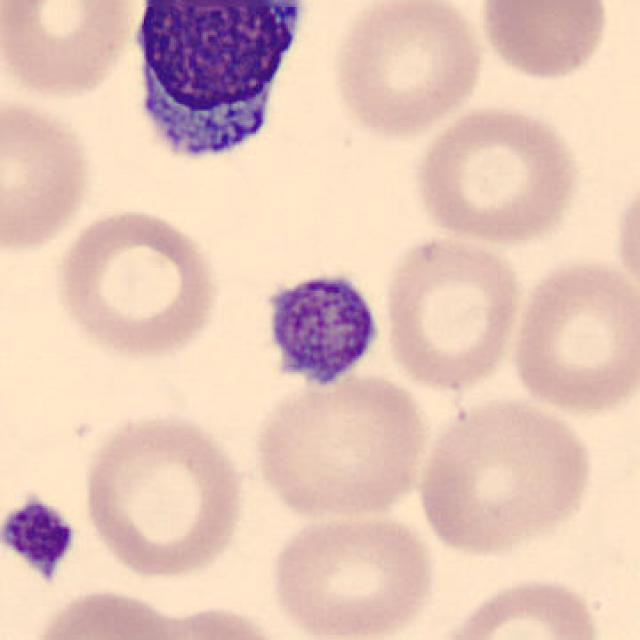Lymphocyte: (118, 0, 318, 180)
Platelets: (254, 266, 386, 397), (0, 494, 80, 587)
RBC: (411, 393, 597, 559), (78, 407, 251, 582), (249, 363, 432, 522), (52, 203, 222, 361), (409, 100, 585, 247), (379, 231, 526, 395), (267, 504, 437, 640), (327, 0, 487, 139), (507, 255, 638, 418), (0, 90, 96, 257), (0, 0, 142, 102), (473, 0, 615, 85), (430, 573, 608, 640), (23, 583, 195, 640), (137, 599, 299, 640), (610, 171, 640, 310)
